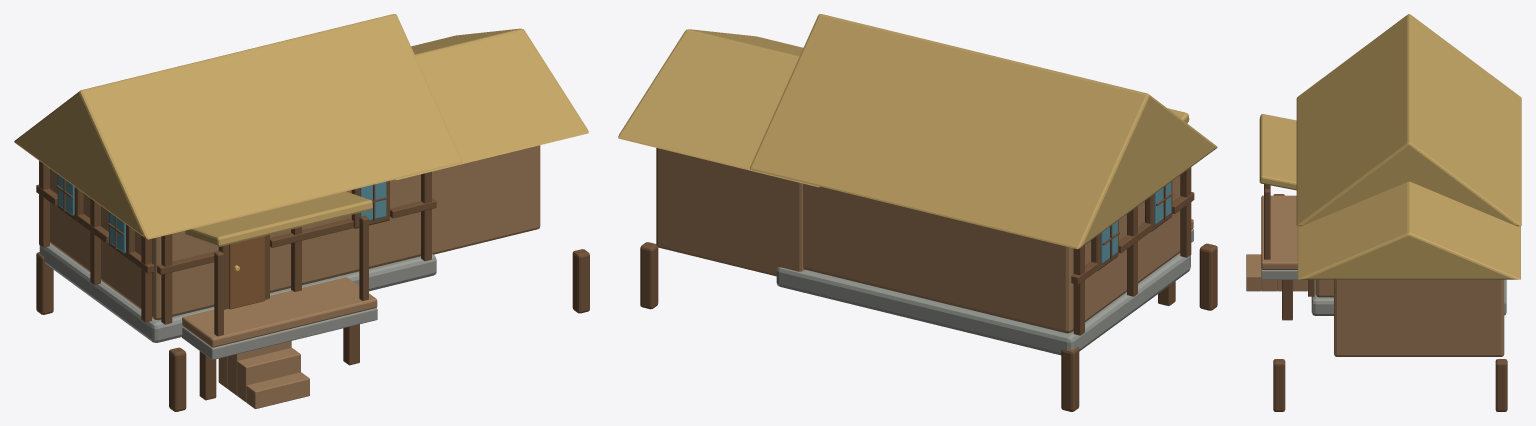
The model's file is wetland-farmstead-1.glb.
3 views of the same model, side by side, from view 1: azimuth 30°, elevation 25°; view 2: azimuth 150°, elevation 25°; view 3: azimuth 270°, elevation 25° (orthographic). The views are drawn at different scales.
Visible parts, largest first — view 1: Golden thatch, Aged oak, Dark beams, Foundation stone, Door oak, Blue glass; view 2: Golden thatch, Aged oak, Foundation stone, Dark beams, Blue glass; view 3: Golden thatch, Aged oak, Dark beams, Foundation stone.
Part boxes in pixels (bbox=[...]): Golden thatch: bbox=[14, 14, 588, 246]; Aged oak: bbox=[50, 145, 540, 408]; Dark beams: bbox=[36, 161, 589, 411]; Foundation stone: bbox=[39, 243, 436, 359]; Door oak: bbox=[229, 236, 264, 309]; Blue glass: bbox=[58, 175, 386, 253]; Golden thatch: bbox=[618, 14, 1217, 249]; Aged oak: bbox=[656, 148, 1193, 333]; Foundation stone: bbox=[776, 229, 1193, 355]; Dark beams: bbox=[640, 167, 1217, 411]; Blue glass: bbox=[1101, 182, 1171, 263]; Golden thatch: bbox=[1259, 14, 1521, 279]; Aged oak: bbox=[1246, 195, 1504, 356]; Dark beams: bbox=[1264, 184, 1507, 411]; Foundation stone: bbox=[1261, 268, 1506, 315].
Size of the model in its own units: 6.45 by 3.69 by 4.12.
